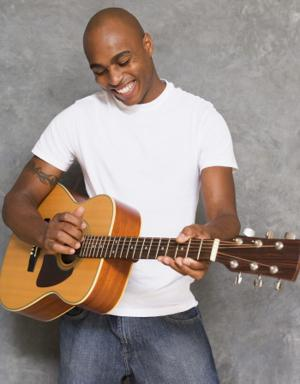person: (3, 9, 242, 382)
